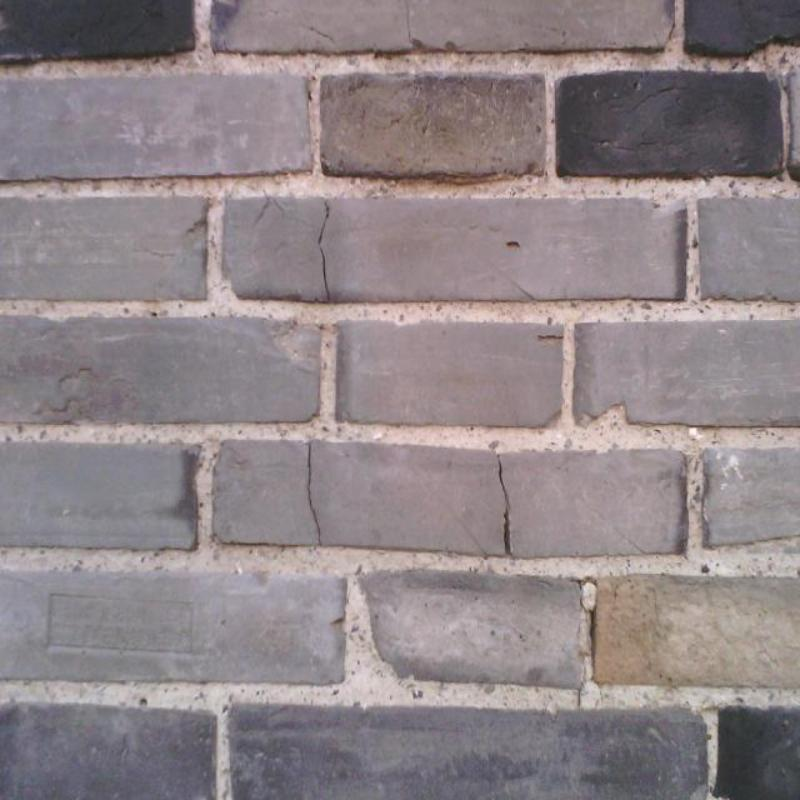crack: (317, 201, 333, 302), (498, 457, 514, 556), (307, 443, 321, 545), (405, 1, 416, 46), (589, 610, 595, 659), (579, 578, 598, 590), (576, 680, 584, 708), (579, 600, 589, 614)
